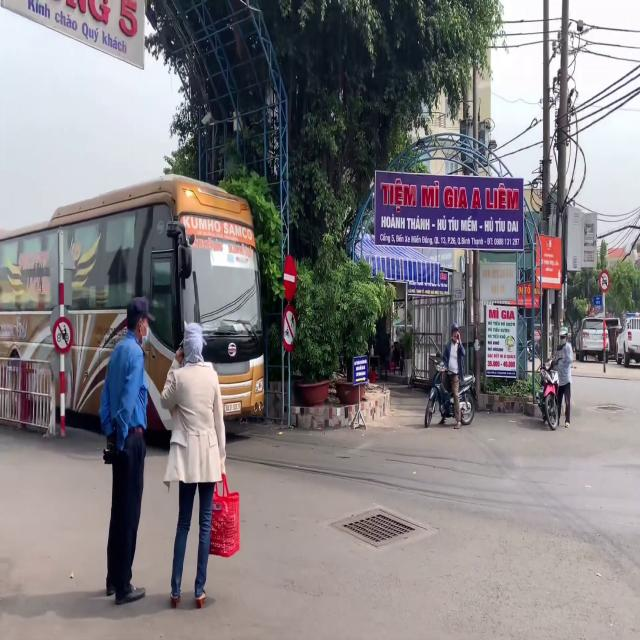bien_trang: (224, 400, 241, 412)
